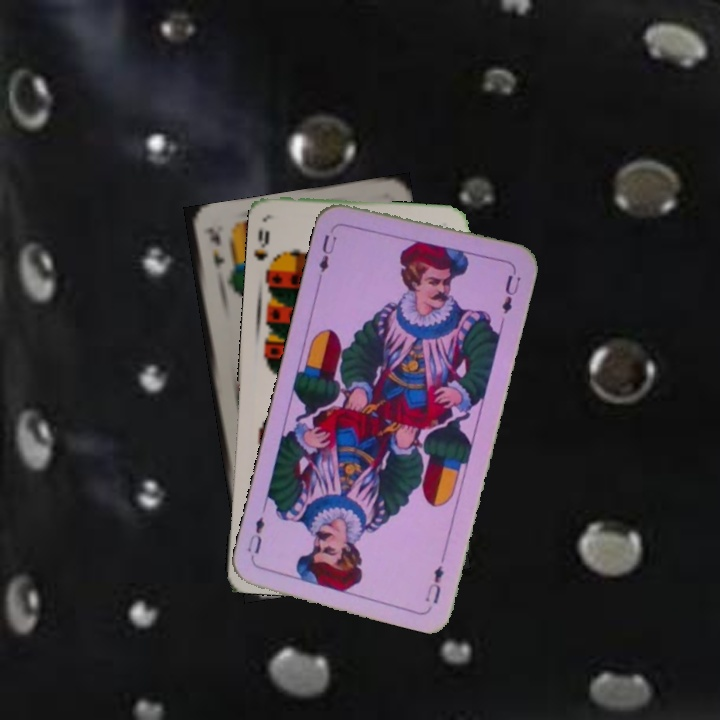EK: (206, 227, 226, 272)
EU: (314, 224, 339, 281), (421, 561, 446, 606)
S9: (252, 225, 272, 263)
